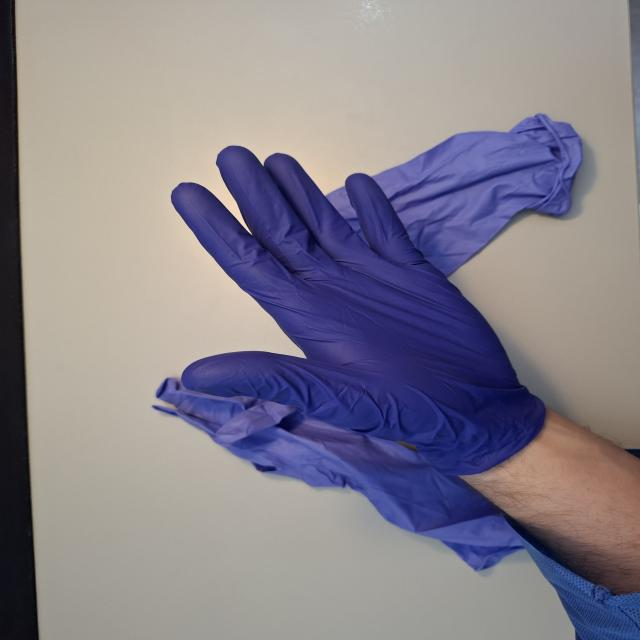glove_on: (166, 143, 541, 476)
